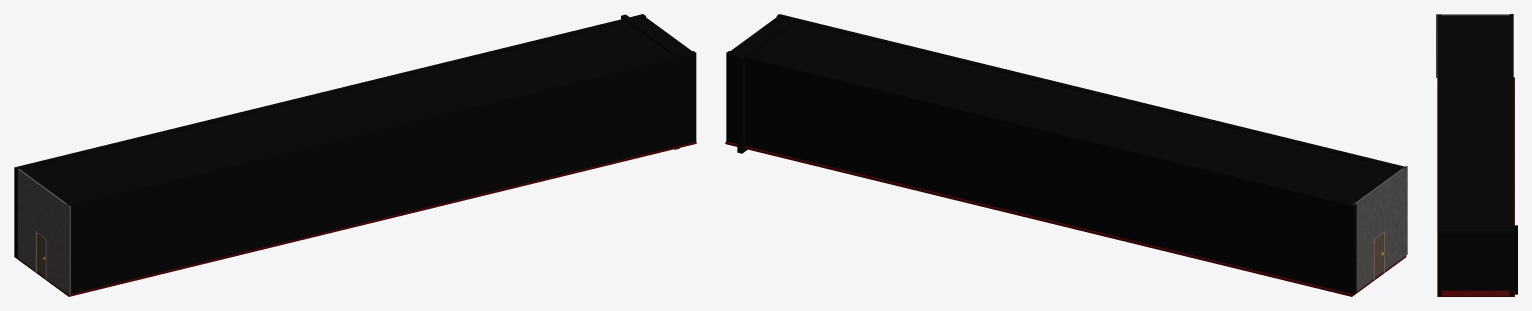
File: pasillo camaras.fbx
3 renders of one model, left to right at view 1: azimuth 30°, elevation 25°; view 2: azimuth 150°, elevation 25°; view 3: azimuth 270°, elevation 25°, orthographic. The views are drawn at different scales.
Visible parts, largest first — view 1: pared, techo, pared 4, pared 2, suelo; view 2: pared 2, techo, pared 4, pared, suelo, pared 3; view 3: techo, pared 3, pared, pared 2, suelo, pared 4.
Part boxes in pixels (x1=…): pared: x1=66, y1=51, x2=696, y2=293; techo: x1=21, y1=17, x2=691, y2=203; pared 4: x1=16, y1=167, x2=70, y2=295; pared 2: x1=14, y1=14, x2=645, y2=257; suelo: x1=14, y1=141, x2=696, y2=296; pared 2: x1=726, y1=51, x2=1356, y2=294; techo: x1=730, y1=17, x2=1400, y2=203; pared 4: x1=1353, y1=165, x2=1407, y2=291; pared: x1=776, y1=14, x2=1405, y2=169; suelo: x1=725, y1=141, x2=1406, y2=296; pared 3: x1=737, y1=18, x2=795, y2=153; techo: x1=1439, y1=15, x2=1509, y2=234; pared 3: x1=1441, y1=225, x2=1517, y2=294; pared: x1=1437, y1=14, x2=1441, y2=295; pared 2: x1=1509, y1=14, x2=1513, y2=295; suelo: x1=1437, y1=77, x2=1514, y2=296; pared 4: x1=1436, y1=14, x2=1511, y2=77.
Bounding box in the file's own units: 39.95 × 5.75 × 6.32.
